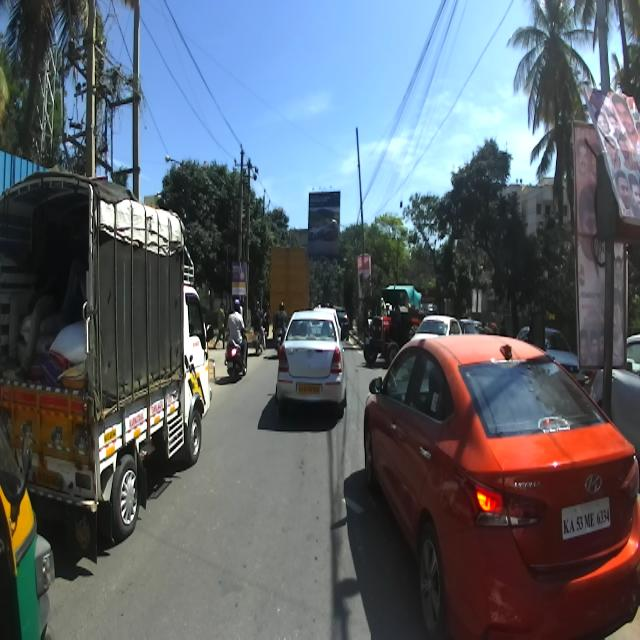car ahead at: (355, 327, 639, 640), (0, 153, 208, 530), (272, 306, 346, 418)
motorcycle ahead at: (221, 338, 250, 388)
